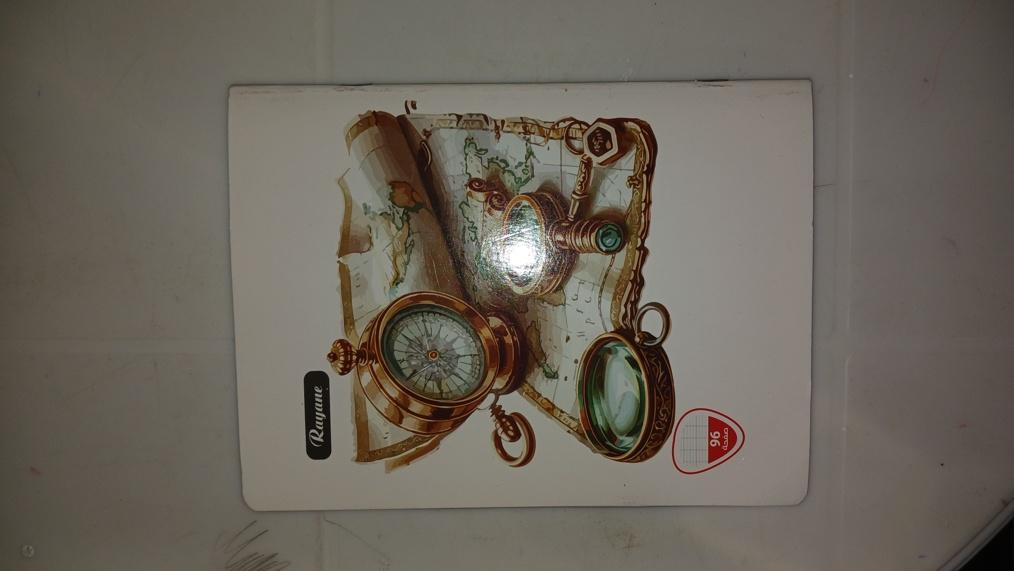notebook: (231, 76, 817, 513)
